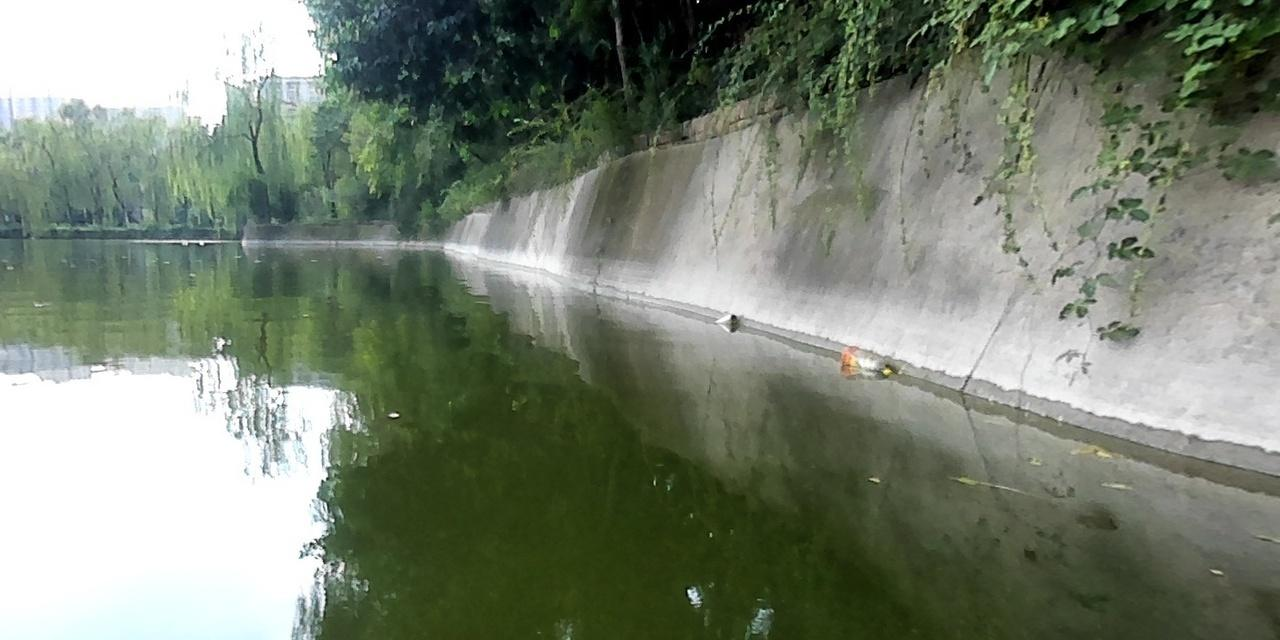bottle: (835, 340, 894, 378)
